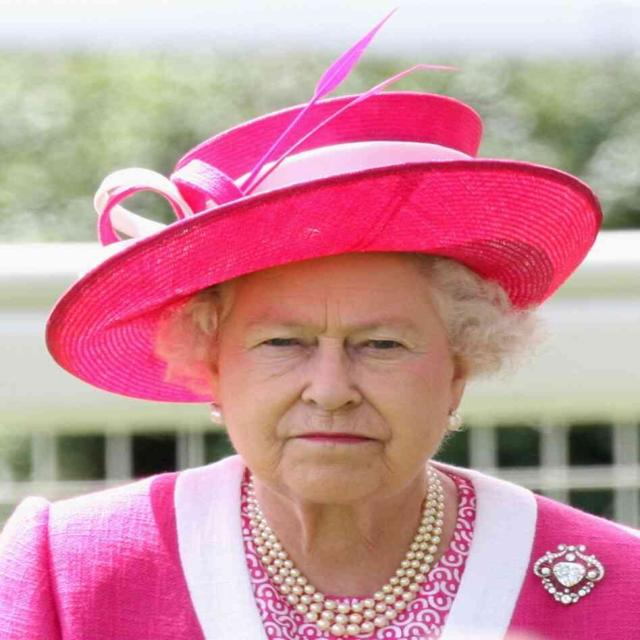hat: (46, 91, 601, 500)
